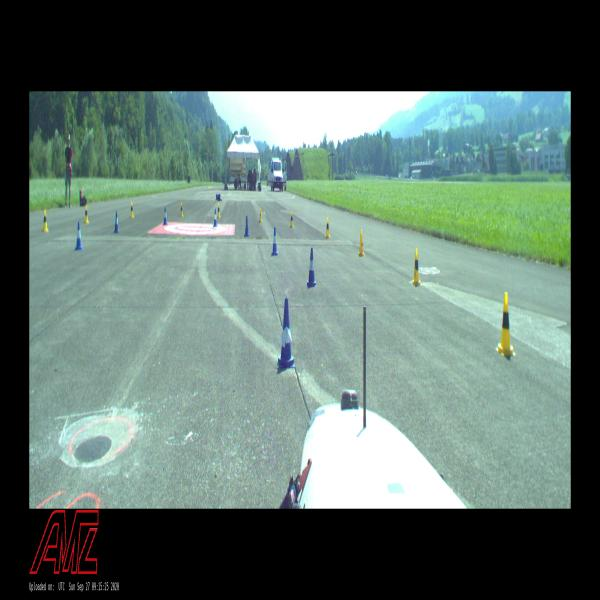blue_cone: (276, 298, 294, 366), (306, 248, 316, 287), (75, 222, 83, 250), (271, 228, 278, 256), (114, 211, 120, 233), (212, 207, 217, 227), (245, 216, 250, 236), (162, 206, 167, 224), (218, 193, 222, 202)
yellow_cone: (495, 293, 516, 357), (412, 249, 421, 286), (358, 230, 365, 256), (42, 210, 48, 231), (324, 217, 330, 238), (84, 205, 89, 224), (289, 212, 294, 228), (179, 202, 184, 217), (130, 201, 134, 218), (258, 207, 262, 222), (217, 203, 220, 218)
